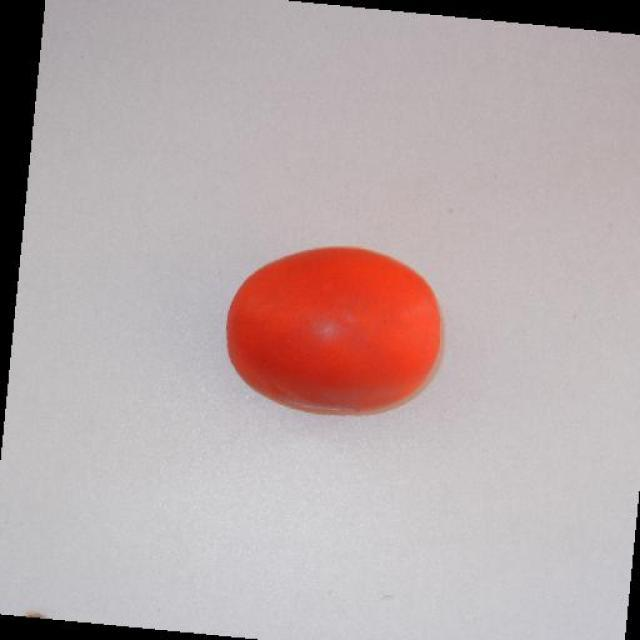Fresh Tomato: (212, 215, 458, 446)
